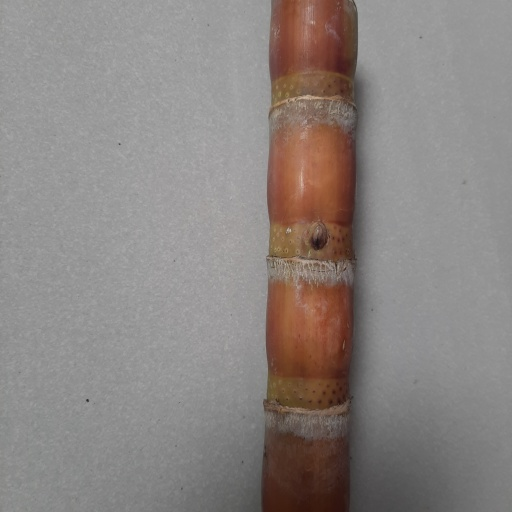Bud: (308, 221, 326, 251)
